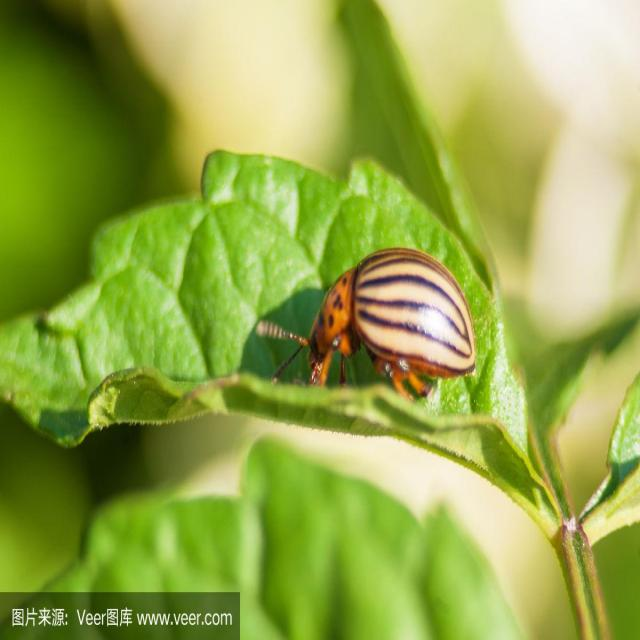ShuCaiHuaBanChong-Grown-: (282, 245, 482, 408)
